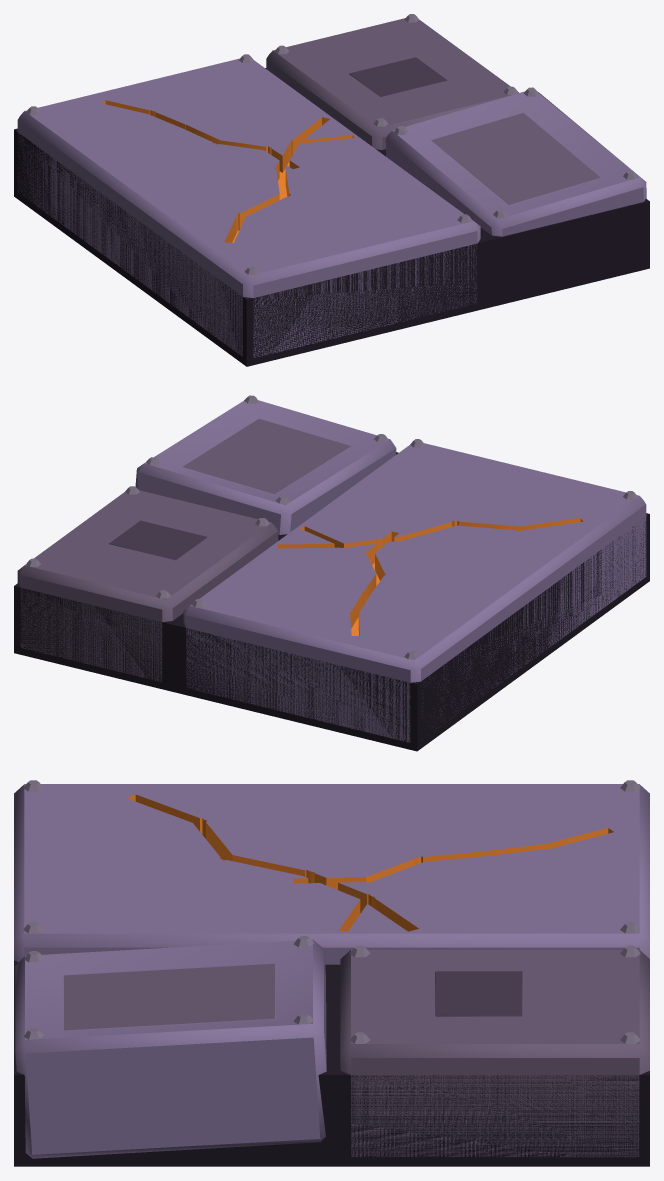
The model's file is floor_cracked__lower.glb.
3 renders of one model, top to bottom at view 1: azimuth 30°, elevation 25°; view 2: azimuth 150°, elevation 25°; view 3: azimuth 270°, elevation 25°, orthographic. The views are drawn at different scales.
Visible parts, largest first — view 1: floor_cracked; view 2: floor_cracked; view 3: floor_cracked.
Part boxes in pixels (x1,y1,x2,y2): floor_cracked: (14,14,649,366); floor_cracked: (14,395,649,751); floor_cracked: (14,780,649,1166).
Bounding box in the file's own units: 0.984 × 0.2516 × 0.974.
